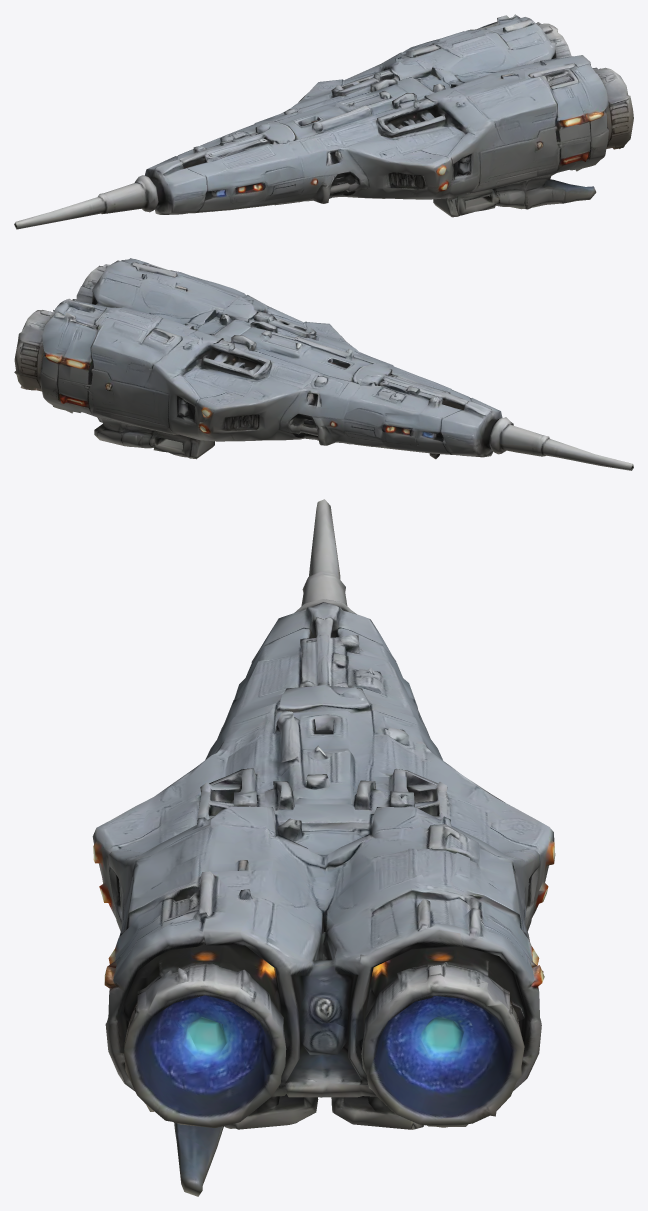
Rendered from scout.glb.
3 views of the same model, one above another, from view 1: azimuth 30°, elevation 25°; view 2: azimuth 150°, elevation 25°; view 3: azimuth 270°, elevation 25° (orthographic). The views are drawn at different scales.
Parts seen in each view (by area): view 1: tripo_node_bdda376c-4811-4204-839f-f4f88bb961c1; view 2: tripo_node_bdda376c-4811-4204-839f-f4f88bb961c1; view 3: tripo_node_bdda376c-4811-4204-839f-f4f88bb961c1.
Part boxes in pixels (<box>): tripo_node_bdda376c-4811-4204-839f-f4f88bb961c1: <box>14,14,633,229</box>; tripo_node_bdda376c-4811-4204-839f-f4f88bb961c1: <box>14,258,633,470</box>; tripo_node_bdda376c-4811-4204-839f-f4f88bb961c1: <box>92,499,555,1196</box>.
Size of the model in its own units: 1 by 0.2306 by 0.352.
Materials: 1 (1 with a texture image).
